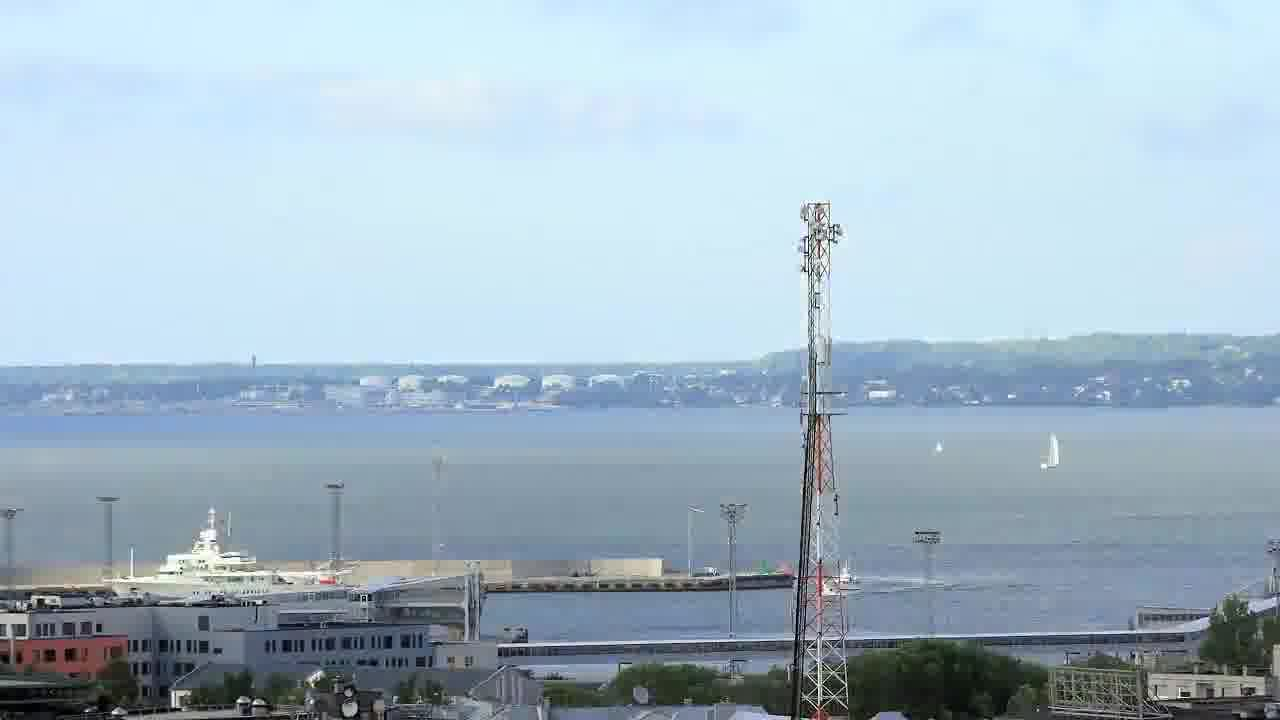type-1: (823, 556, 874, 601)
type-2: (1009, 412, 1064, 486)
type-3: (84, 515, 355, 603)
